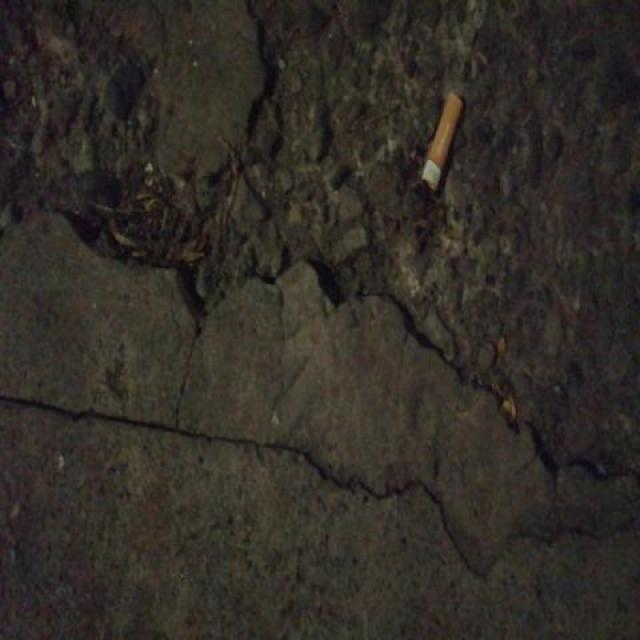non-organic waste: (417, 86, 467, 198)
